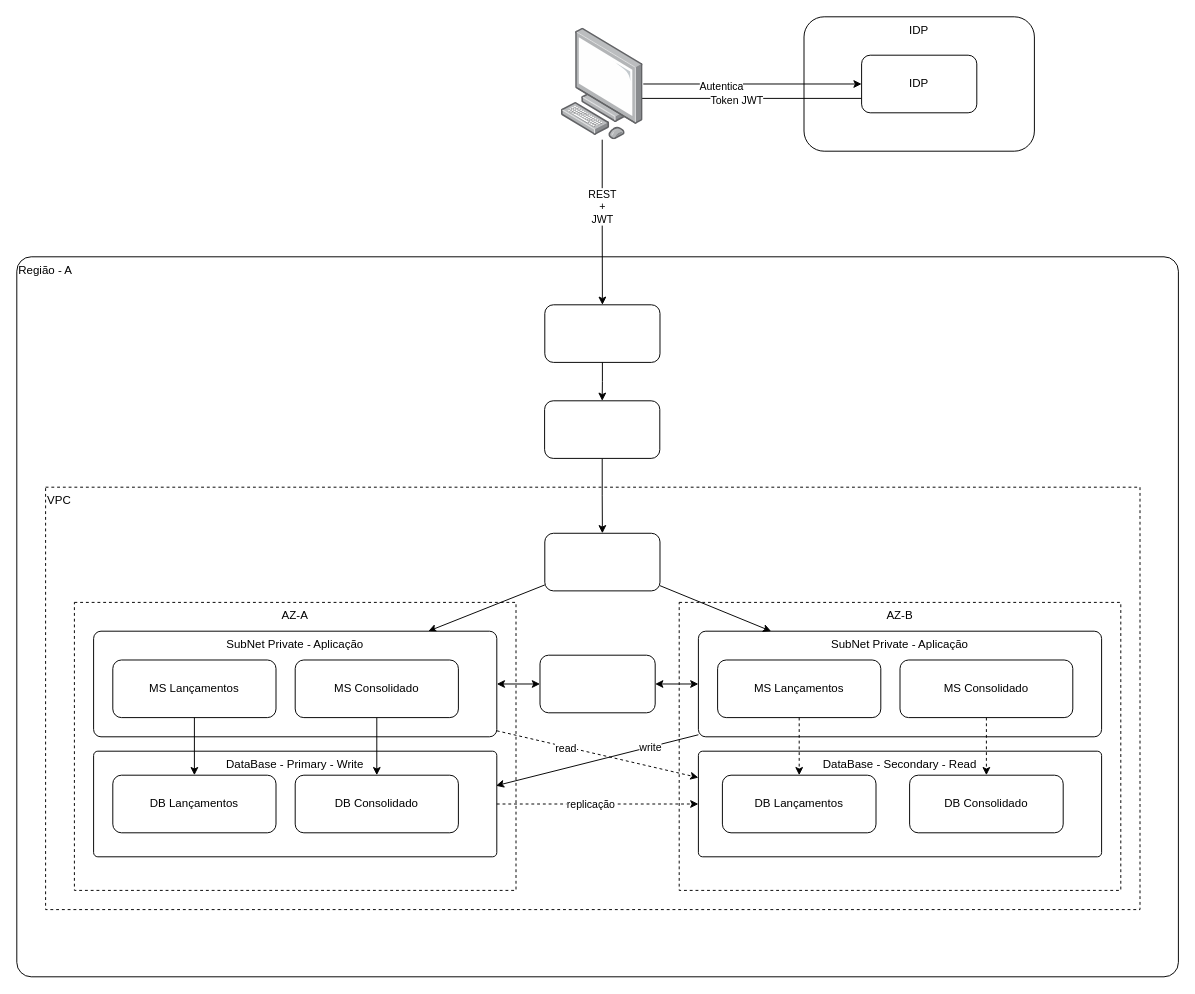
This 1195x994 diagram has some shape labels left out. The shapes that lost their labels are listed below. From the top down, each one's centre as x and y in pixels, then its label:
At [602,333]: "Firewall".
At [602,429]: "Gateway".
At [602,561]: "Load Balancer".
At [597,683]: "Broker Queue".
